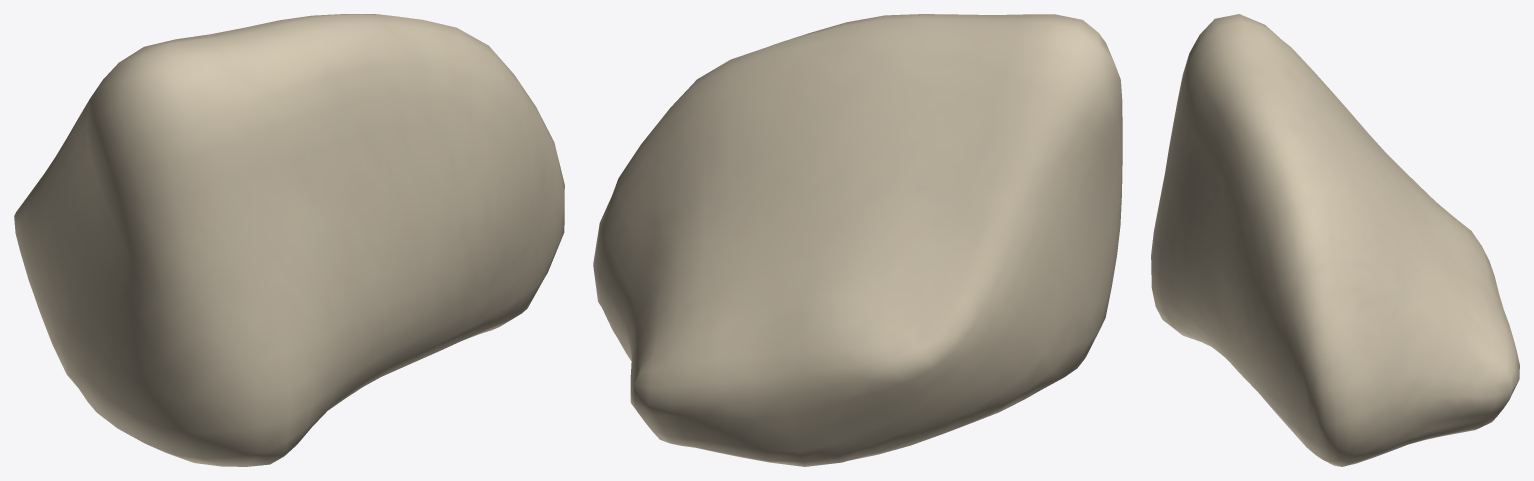
Rendered from R carpale primum.fbx.
3 views of the same model, side by side, from view 1: azimuth 30°, elevation 25°; view 2: azimuth 150°, elevation 25°; view 3: azimuth 270°, elevation 25° (orthographic). The views are drawn at different scales.
Visible parts, largest first — view 1: R carpale primum; view 2: R carpale primum; view 3: R carpale primum.
Part boxes in pixels (<box>): R carpale primum: <box>14,14,564,466</box>; R carpale primum: <box>593,14,1122,466</box>; R carpale primum: <box>1151,14,1519,466</box>.
Bounding box in the file's own units: 1.74 × 1.36 × 1.47.
